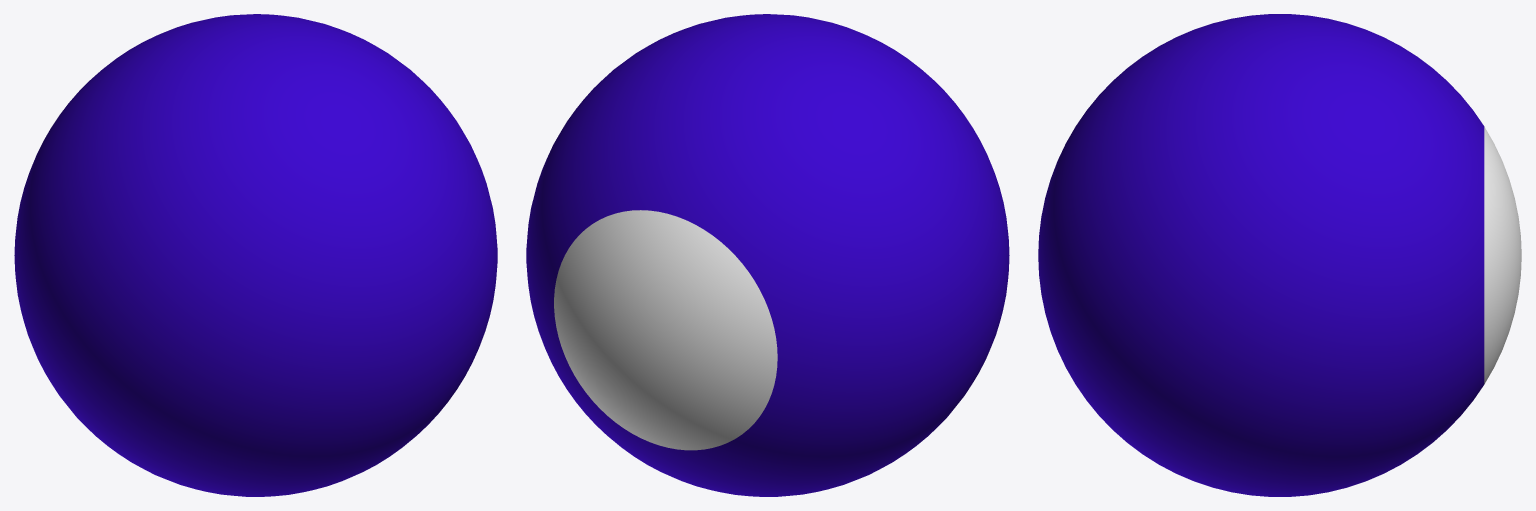
The model's file is 4Ball.dae.
The picture shows the model from 3 angles, left to right: view 1: azimuth 30°, elevation 25°; view 2: azimuth 150°, elevation 25°; view 3: azimuth 270°, elevation 25°; orthographic projection.
Bounding box in the file's own units: 0.0571 × 0.0572 × 0.0571.
